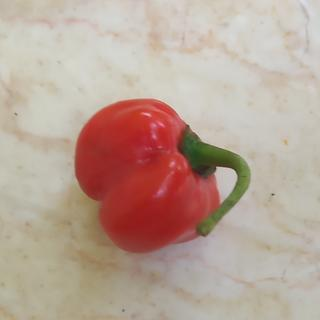Grade-B: (68, 88, 223, 256)
